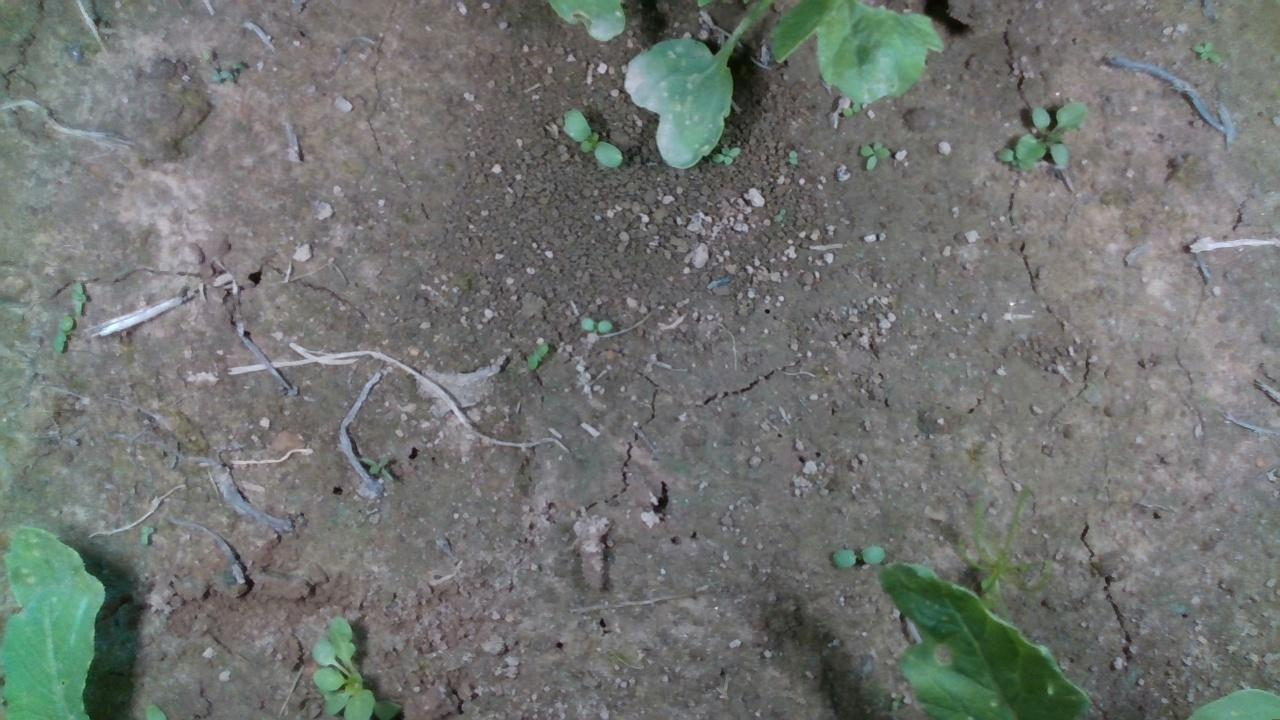weed: (561, 108, 623, 168), (830, 545, 885, 568), (857, 137, 890, 171), (357, 454, 393, 481), (525, 340, 549, 371), (1188, 39, 1219, 62), (710, 143, 740, 166), (70, 276, 88, 314), (579, 316, 613, 332), (786, 148, 798, 164)
